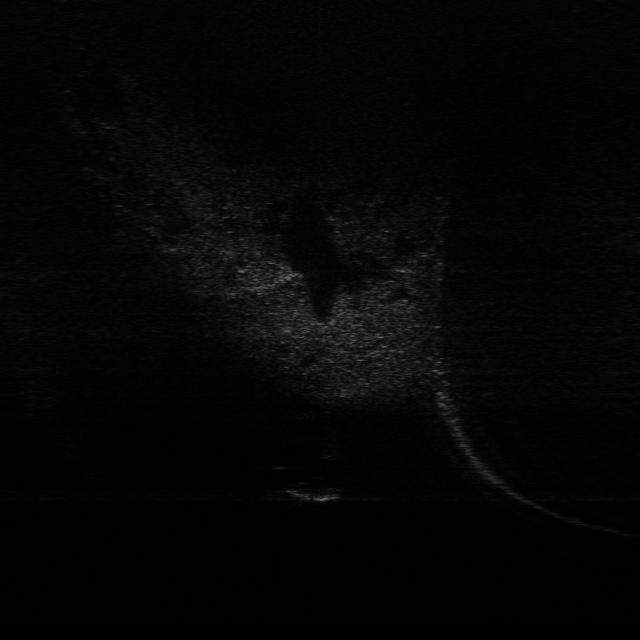cube: (284, 478, 344, 506)
